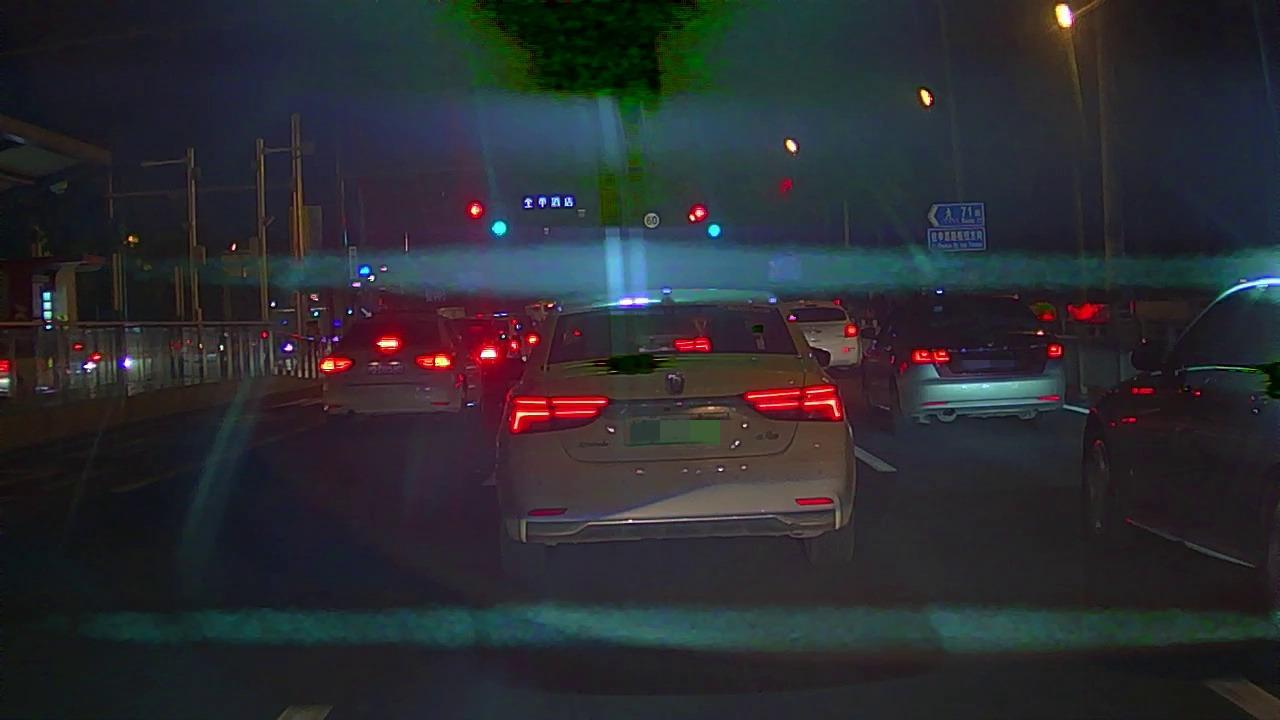traffic_light: (490, 221, 507, 233), (708, 222, 721, 237), (468, 202, 481, 216), (695, 204, 705, 218)
